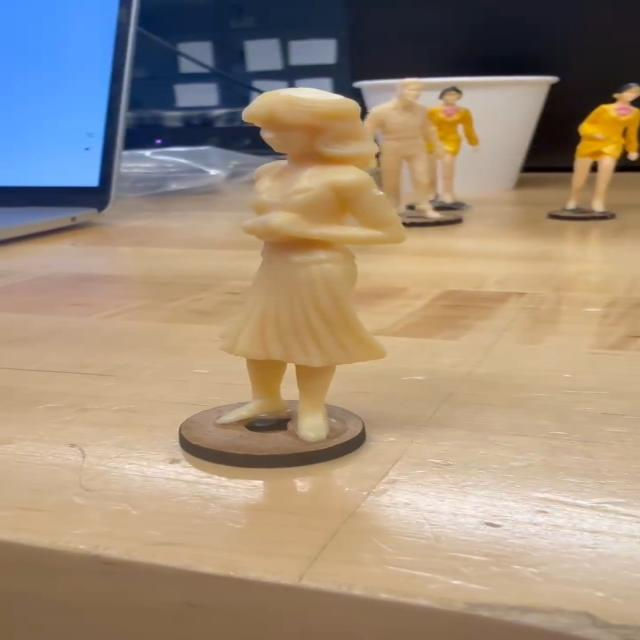Unauthorized: (211, 79, 408, 444)
